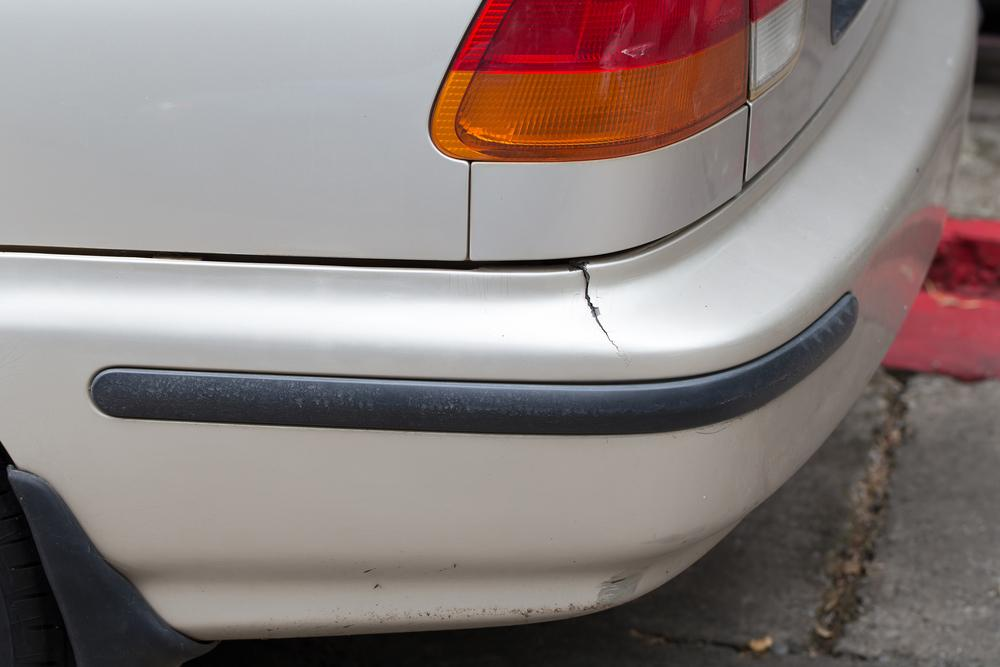crack: (575, 267, 626, 365)
